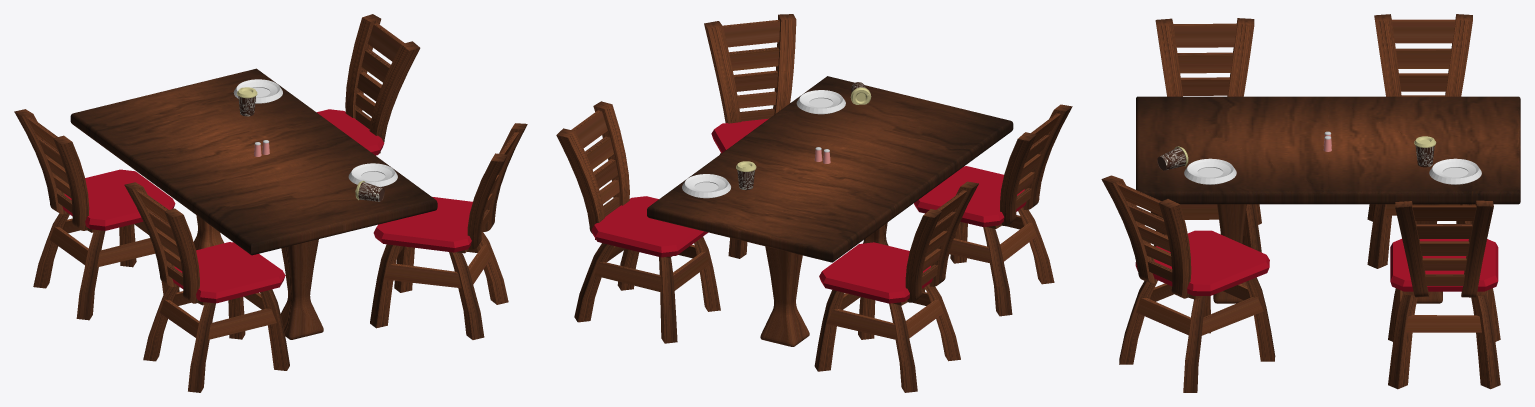
Rendered from cafe_chair_table.fbx.
The picture shows the model from 3 angles, left to right: view 1: azimuth 30°, elevation 25°; view 2: azimuth 150°, elevation 25°; view 3: azimuth 270°, elevation 25°; orthographic projection. The views are drawn at different scales.
Parts seen in each view (by area): view 1: Плоскость, chair.002, chair, chair.003, chair.001, Окружность, Окружность.003, Окружность.002, Окружность.001; view 2: Плоскость, chair.001, chair.003, chair.002, chair, Окружность, Окружность.003, Окружность.002; view 3: Плоскость, chair, chair.001, chair.003, chair.002, Окружность, Окружность.003, Окружность.002, Окружность.001.
Boxes of the visible parts, x1,y1,x2,y2 form: Плоскость: (70, 68, 437, 339); chair.002: (124, 182, 289, 392); chair: (370, 123, 527, 339); chair.003: (14, 109, 179, 320); chair.001: (317, 14, 420, 155); Окружность: (348, 163, 397, 187); Окружность.003: (233, 79, 282, 103); Окружность.002: (237, 87, 257, 116); Окружность.001: (355, 180, 384, 201); Плоскость: (647, 76, 1013, 346); chair.001: (556, 101, 720, 343); chair.003: (814, 181, 978, 392); chair.002: (914, 104, 1072, 316); chair: (704, 14, 796, 258); Окружность: (796, 90, 845, 114); Окружность.003: (682, 174, 730, 198); Окружность.002: (736, 161, 756, 190); Плоскость: (1136, 96, 1520, 303); chair: (1101, 175, 1275, 392); chair.001: (1388, 200, 1500, 389); chair.003: (1367, 14, 1475, 268); chair.002: (1151, 18, 1261, 252); Окружность: (1184, 158, 1236, 184); Окружность.003: (1429, 158, 1481, 184); Окружность.002: (1414, 136, 1436, 167); Окружность.001: (1157, 146, 1188, 170).
Size of the model in its own units: 238 by 110 by 217.
6 materials, 2 textured.
